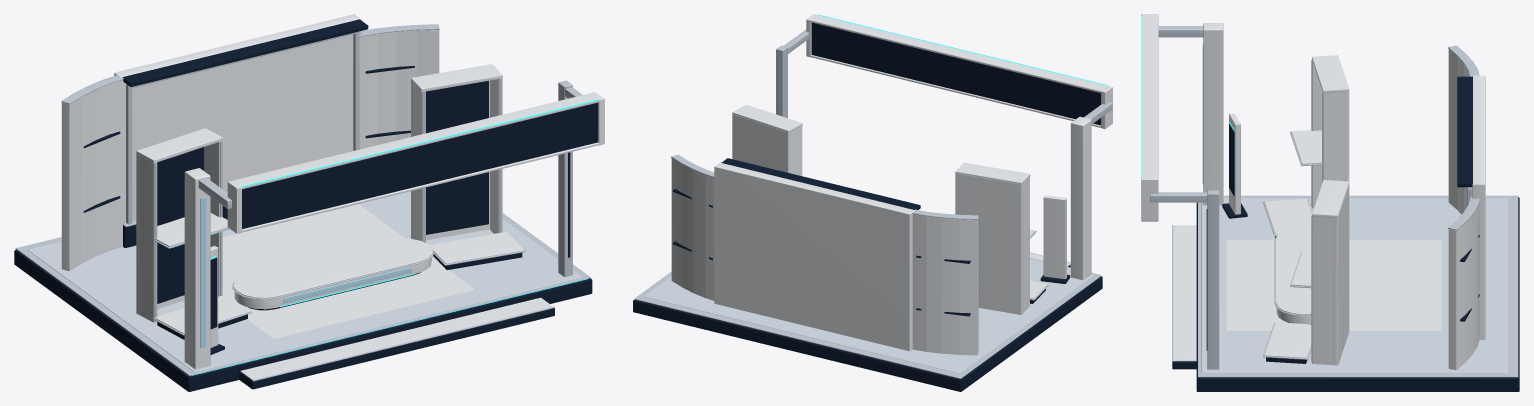
Rendered from aether_tech_v3.glb.
3 views of the same model, side by side, from view 1: azimuth 30°, elevation 25°; view 2: azimuth 150°, elevation 25°; view 3: azimuth 270°, elevation 25° (orthographic). The views are drawn at different scales.
Visible parts, largest first — view 1: Aether_Tech_Booth_v3; view 2: Aether_Tech_Booth_v3; view 3: Aether_Tech_Booth_v3.
Boxes of the visible parts, x1=… form: Aether_Tech_Booth_v3: x1=14, y1=14, x2=604, y2=391; Aether_Tech_Booth_v3: x1=633, y1=14, x2=1112, y2=391; Aether_Tech_Booth_v3: x1=1141, y1=14, x2=1519, y2=391.
Size of the model in its own units: 7.2 by 3.78 by 6.33.
